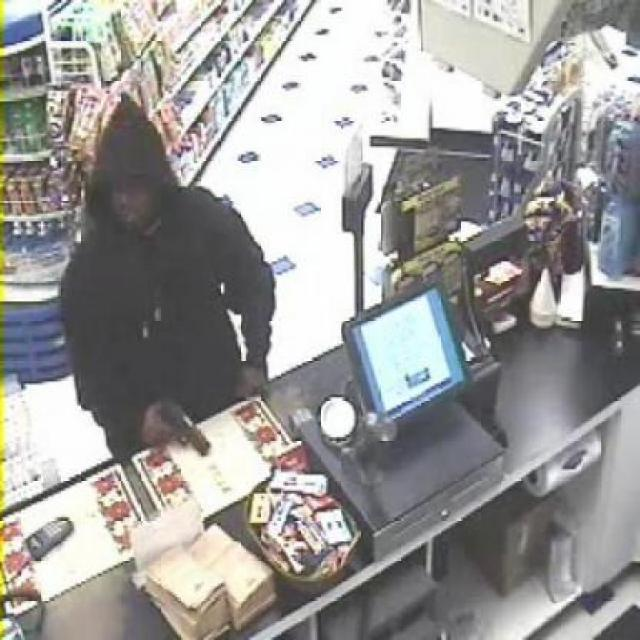gun: (147, 388, 210, 456)
